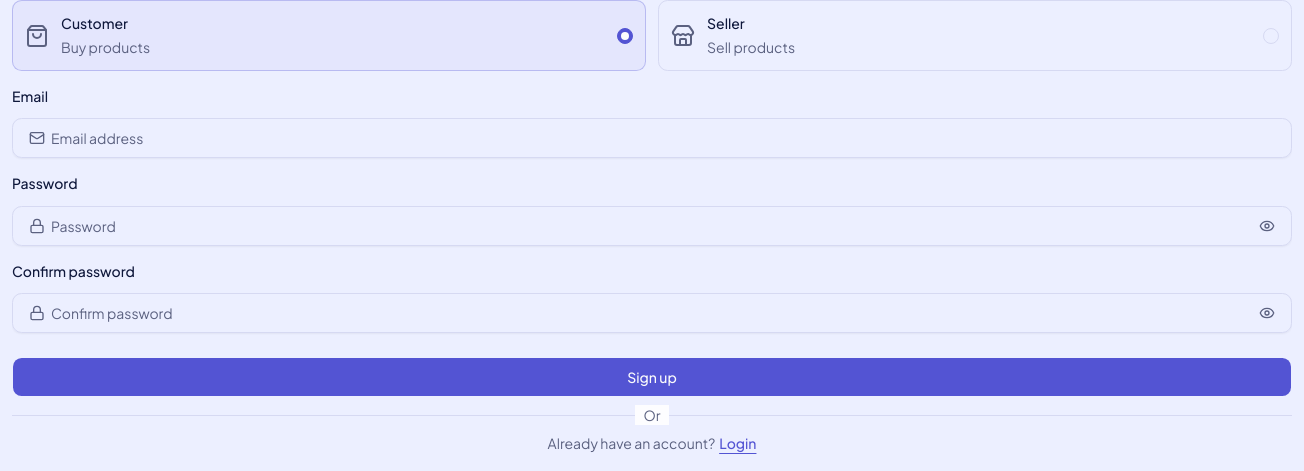
Test: RegisterForm › memilih seller: role seller ikut terkirim
Later steps or results of the test are not shown.
Click the text "Seller": (726, 23) [707,13,745,33]
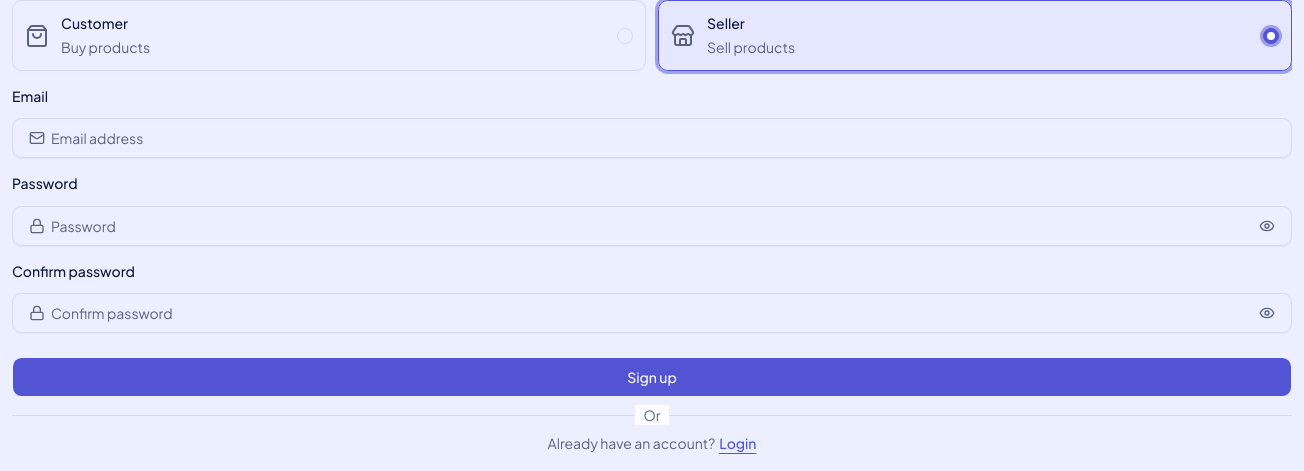
Expected: the radio button in the row of "Sell products" is checked, [1263,28,1279,44]
